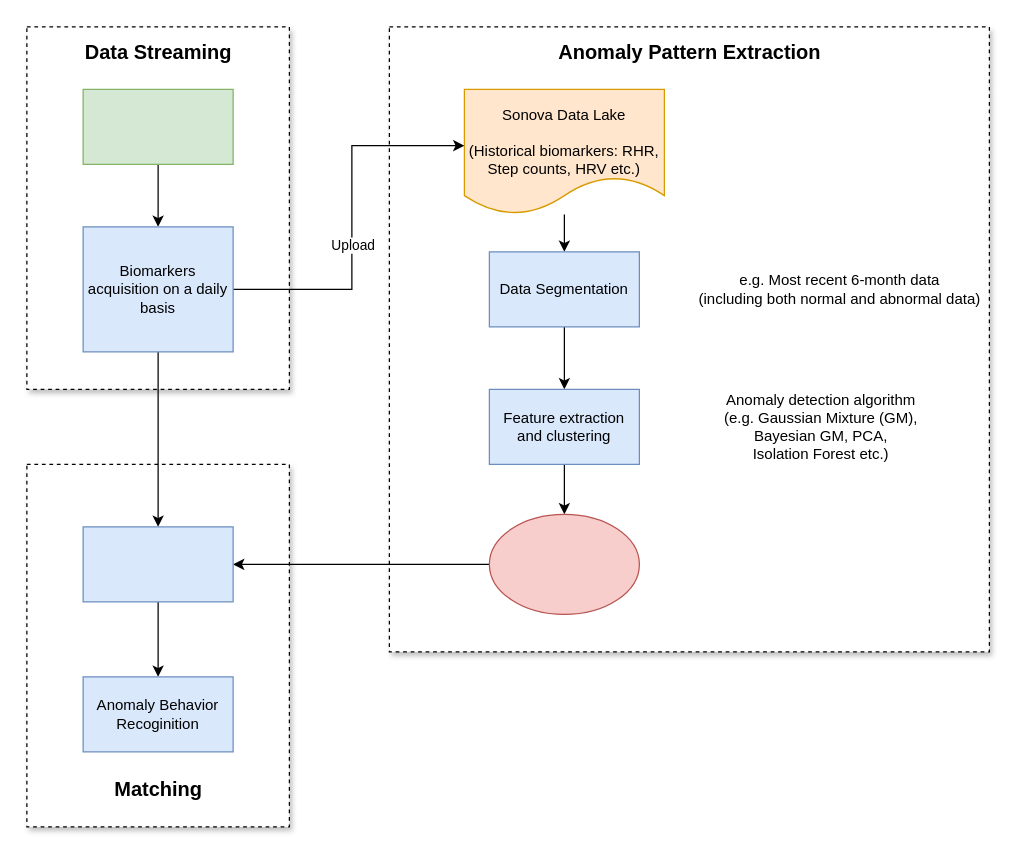
The diagram is 1019 pixels wide and 858 high, and some of its shapes have lost their labels. The shapes that lost their labels are listed below. From the top down, each one's centre as x and y in pixels, then its label:
At point (157, 126): "HI with biosensors".
At point (157, 564): "Matching Algorithm".
At point (563, 563): "Anomaly Behavior Model/Pattern".
